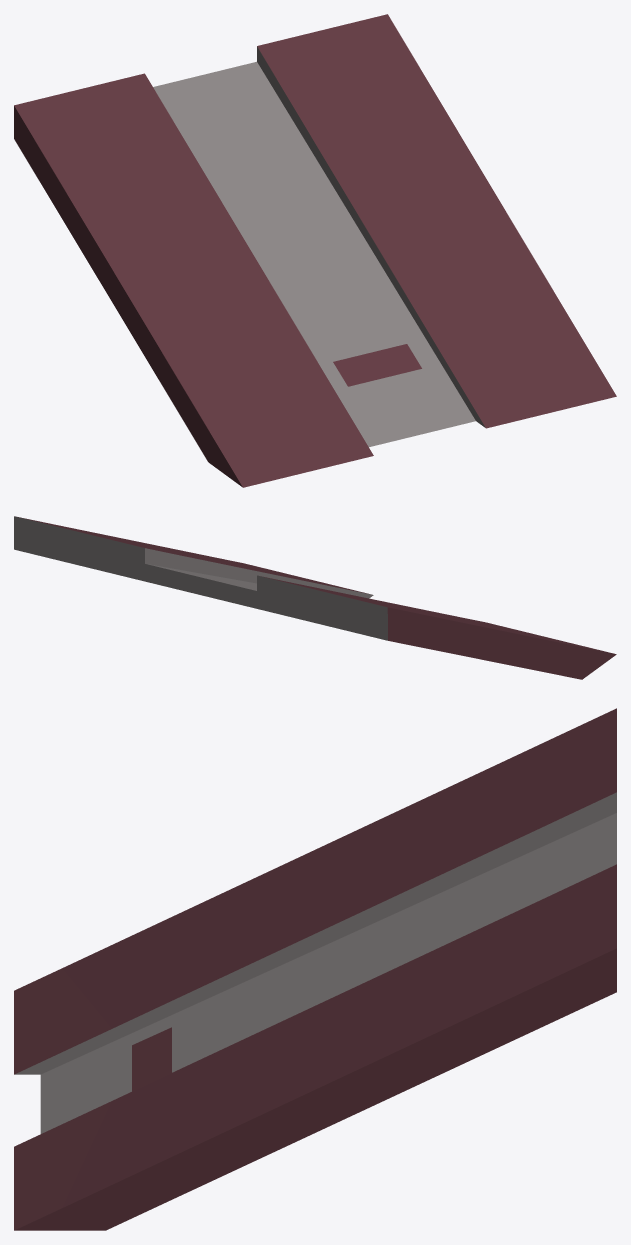
The model's file is scifi-scifi-ramp.glb.
3 views of the same model, one above another, from view 1: azimuth 30°, elevation 25°; view 2: azimuth 150°, elevation 25°; view 3: azimuth 270°, elevation 25° (orthographic). The views are drawn at different scales.
Parts seen in each view (by area): view 1: scifi-ramp; view 2: scifi-ramp; view 3: scifi-ramp.
Part boxes in pixels (x1,y1,x2,y2): scifi-ramp: (14,14,616,487); scifi-ramp: (14,516,616,679); scifi-ramp: (14,708,616,1230).
Bounding box in the file's own units: 1.88 × 1.03 × 2.
